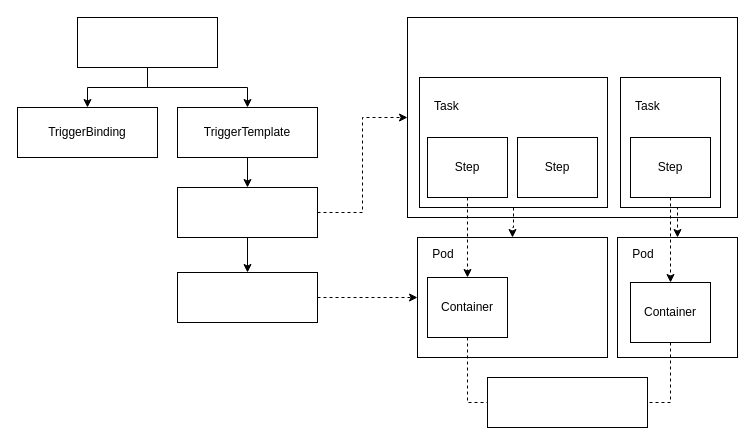
This 755x445 diagram has some shape labels left out. Here are the shapes that lost their labels. From the top down, the box of each, then its label:
(76, 16, 218, 68): EventListener
(406, 16, 738, 218): Pipeline
(176, 186, 318, 238): PipelineRun
(176, 272, 318, 322): TaskRun
(486, 376, 648, 428): PersistentVolumeClaim
